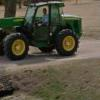Tractor: (3, 4, 87, 62)
